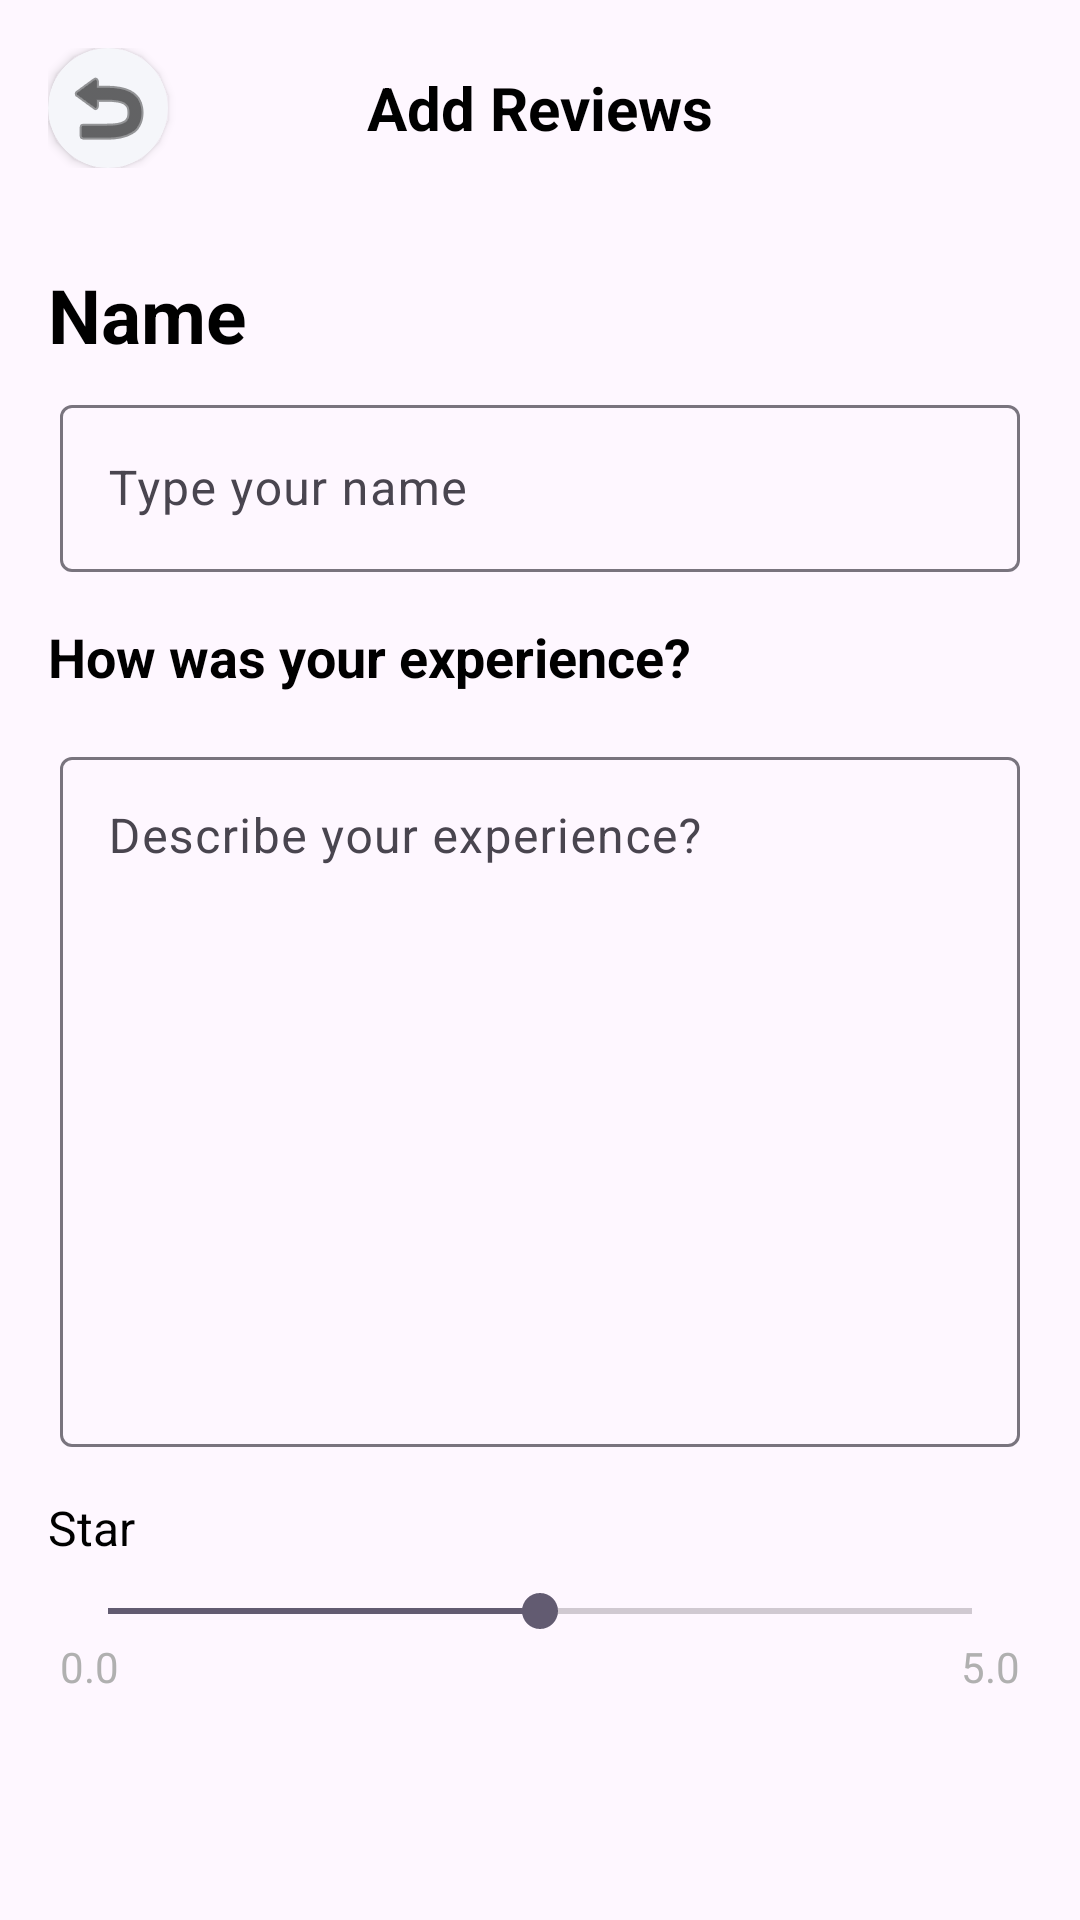

Icon bounding boxes for this 1080w x 1920h phone screenshot, format [left=x1, top=y1, right=x2, bottom=y2]:
Back Button: [left=60, top=60, right=144, bottom=140]
